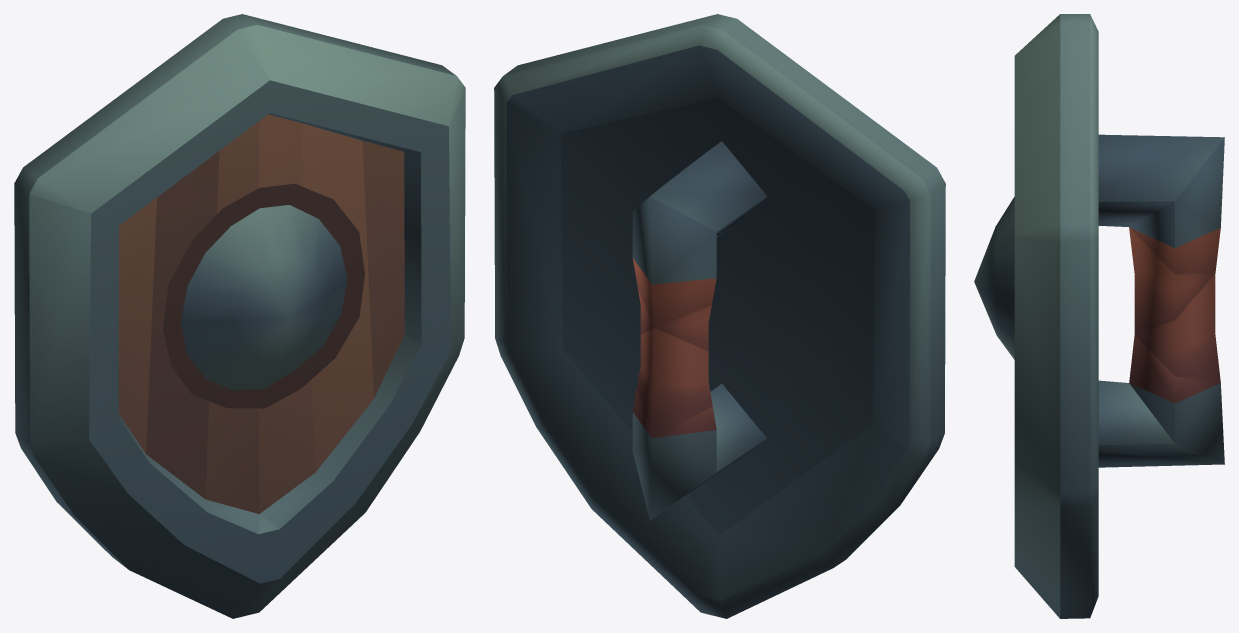
The model's file is shield_soldier.fbx.
3 renders of one model, left to right at view 1: azimuth 30°, elevation 25°; view 2: azimuth 150°, elevation 25°; view 3: azimuth 270°, elevation 25°, orthographic.
Visible parts, largest first — view 1: shield_human_footman; view 2: shield_human_footman; view 3: shield_human_footman.
Boxes of the visible parts, x1,y1,x2,y2 form: shield_human_footman: [14, 14, 465, 618]; shield_human_footman: [494, 14, 945, 618]; shield_human_footman: [974, 14, 1224, 618].
Bounding box in the file's own units: 69.16 × 89.08 × 34.06.
1 material, 1 textured.
